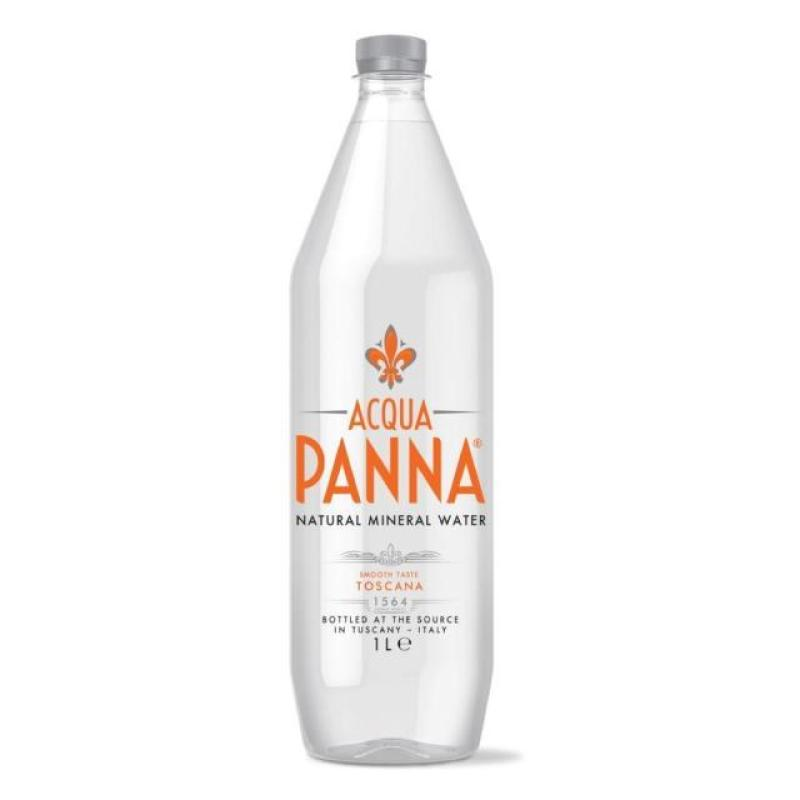botella: (288, 33, 493, 771)
